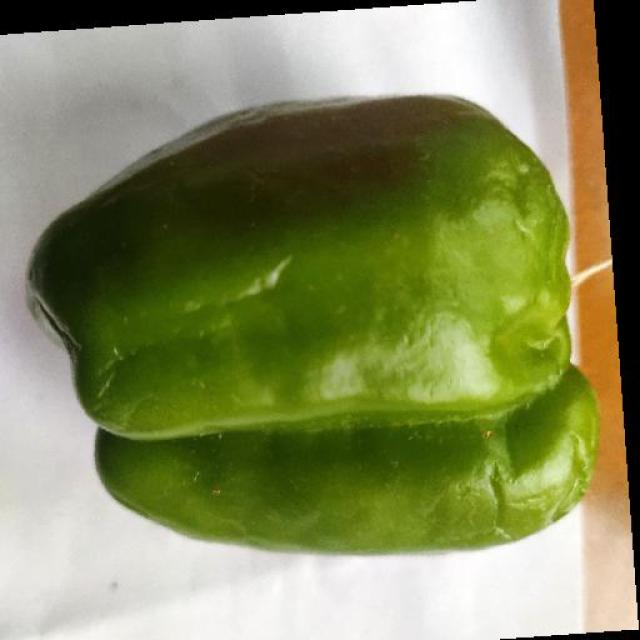Stale_Capsicum: (86, 99, 580, 493)
